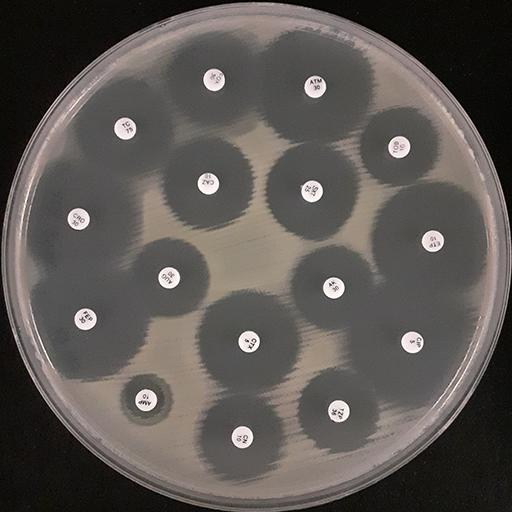disc: (304, 75, 327, 98), (203, 68, 225, 91), (328, 400, 350, 423), (67, 208, 90, 230), (114, 117, 136, 140), (197, 172, 219, 195), (388, 136, 410, 158), (422, 230, 444, 252), (401, 331, 423, 353), (135, 389, 157, 411), (75, 308, 97, 330), (301, 180, 323, 202), (238, 331, 260, 353), (158, 267, 180, 289), (232, 426, 253, 448), (323, 277, 344, 299)
